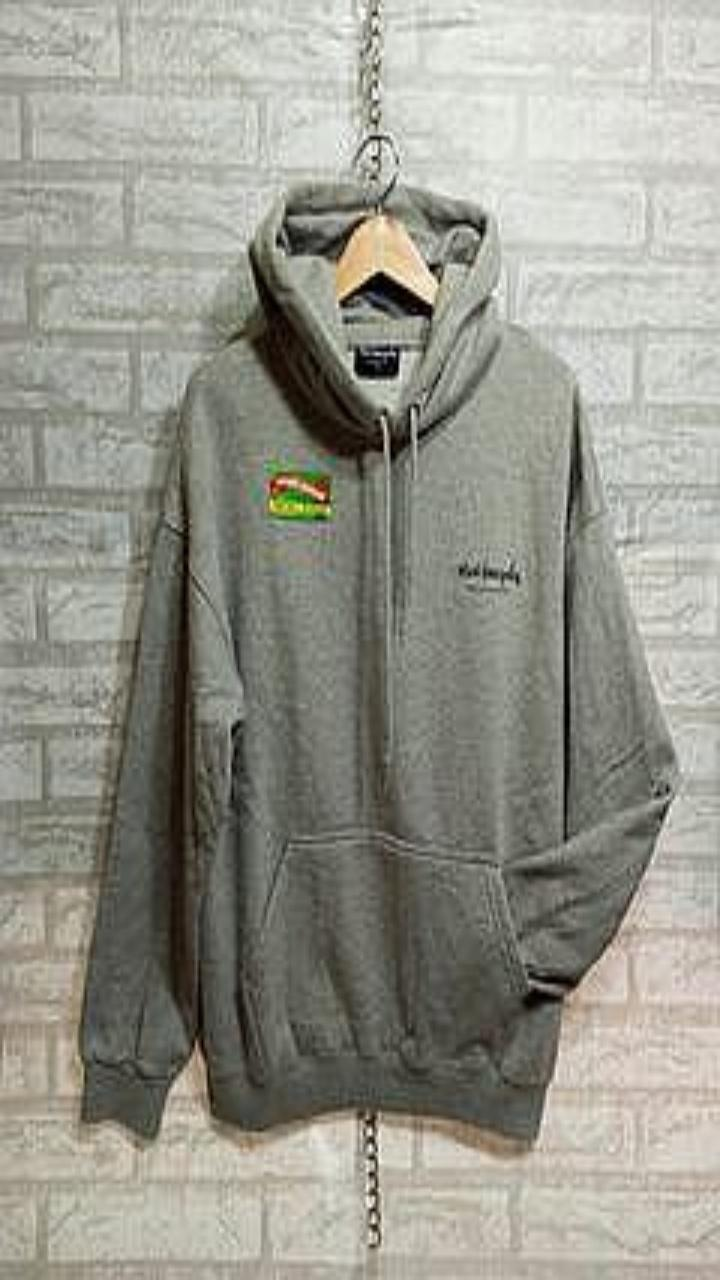Hoodie: (80, 180, 679, 1137)
